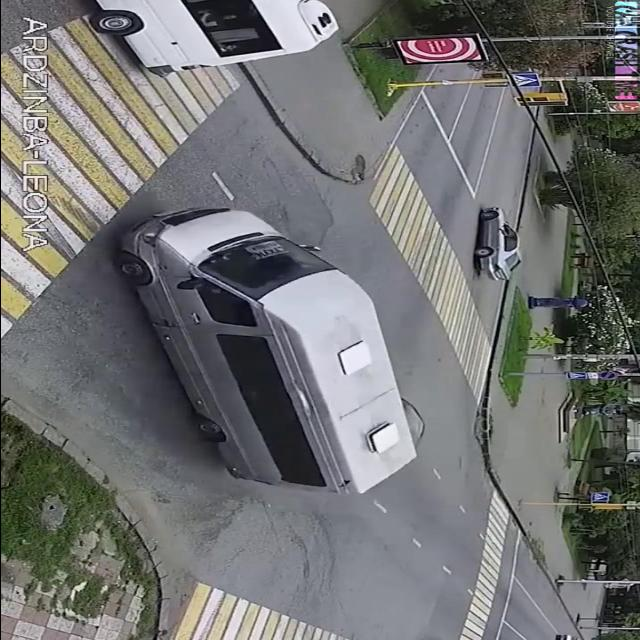accident: (101, 199, 439, 501)
